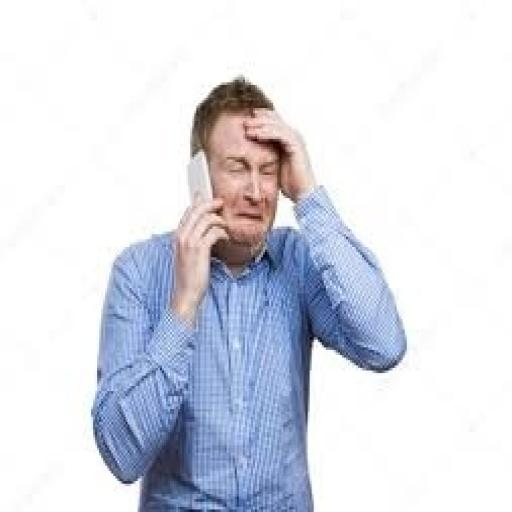calling: (89, 74, 409, 510)
